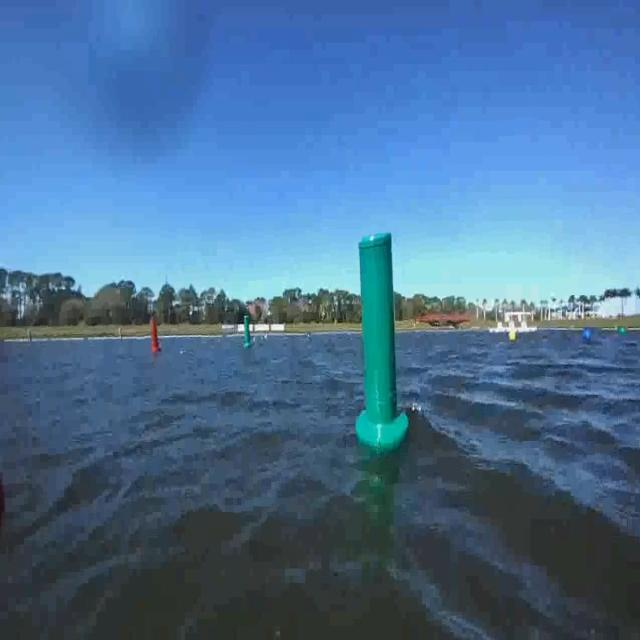blue-buoy: (584, 327, 594, 343)
green-buoy: (620, 326, 627, 336)
green-column-buoy: (353, 232, 406, 452), (241, 316, 250, 350)
red-column-buoy: (150, 320, 162, 356)
yellow-buoy: (510, 328, 518, 343)
